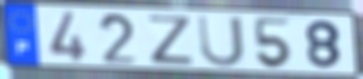2: (97, 12, 139, 65)
4: (46, 9, 89, 65)
5: (251, 16, 295, 70)
8: (304, 19, 345, 70)
U: (195, 14, 247, 69)
Z: (147, 13, 195, 67)
